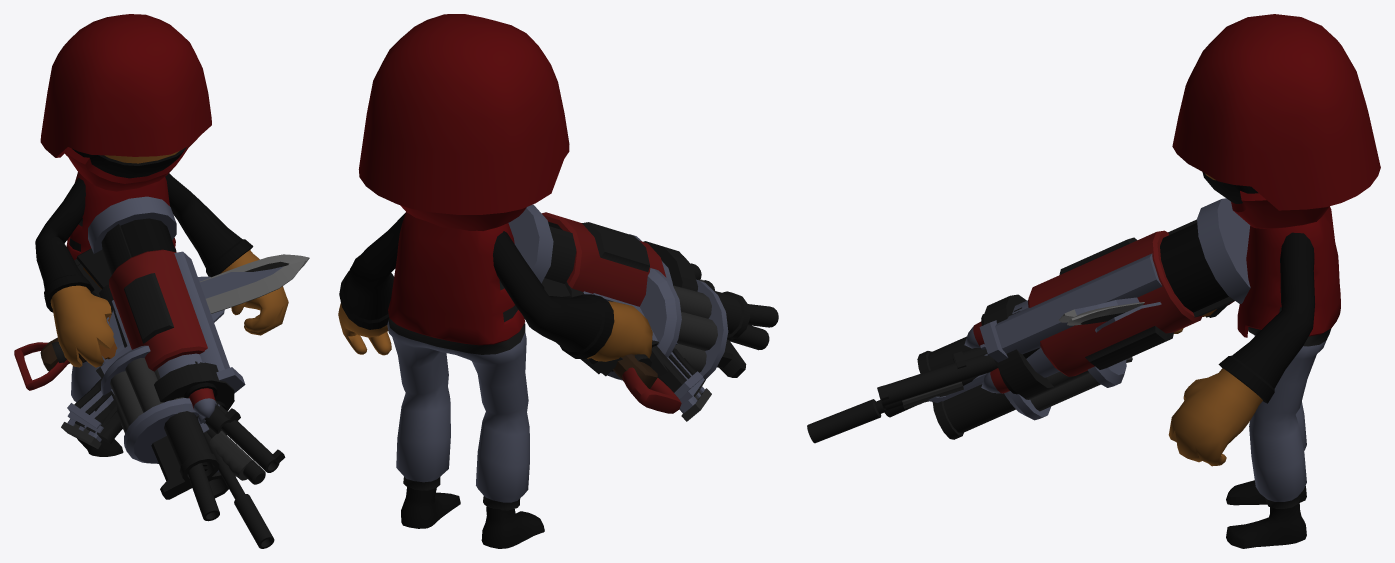
Rendered from Character_Enemy.obj.
3 renders of one model, left to right at view 1: azimuth 30°, elevation 25°; view 2: azimuth 150°, elevation 25°; view 3: azimuth 270°, elevation 25°, orthographic. The views are drawn at different scales.
Visible parts, largest first — view 1: Character_Enemy_Head_Cube.002, RocketLauncher_Cube.298, Character_Enemy_Cube.013, GrenadeLauncher_Cylinder.019, Knife_1_Cube.300, Sniper_Cube.312, Shotgun_Cube.283, Sniper_2_Cube.282, Shovel_Cylinder.025, Knife_2_Cylinder.027, ShortCannon_Cube.000, AK_Cube.276 (+1 smaller); view 2: Character_Enemy_Cube.013, Character_Enemy_Head_Cube.002, RocketLauncher_Cube.298, GrenadeLauncher_Cylinder.019, Sniper_2_Cube.282, Sniper_Cube.312, Shovel_Cylinder.025, Knife_1_Cube.300, AK_Cube.276; view 3: Character_Enemy_Head_Cube.002, Character_Enemy_Cube.013, RocketLauncher_Cube.298, GrenadeLauncher_Cylinder.019, Shotgun_Cube.283, Sniper_Cube.312, Knife_2_Cylinder.027.
Part boxes in pixels (x1,y1,x2,y2): Character_Enemy_Head_Cube.002: [40, 14, 211, 191]; RocketLauncher_Cube.298: [88, 196, 245, 417]; Character_Enemy_Cube.013: [35, 172, 288, 456]; GrenadeLauncher_Cylinder.019: [101, 345, 228, 499]; Knife_1_Cube.300: [40, 260, 305, 371]; Sniper_Cube.312: [67, 259, 274, 548]; Shotgun_Cube.283: [206, 400, 285, 484]; Sniper_2_Cube.282: [67, 248, 219, 521]; Shovel_Cylinder.025: [14, 276, 224, 390]; Knife_2_Cylinder.027: [52, 254, 309, 362]; ShortCannon_Cube.000: [99, 342, 240, 434]; AK_Cube.276: [61, 267, 116, 448]; Character_Enemy_Cube.013: [338, 212, 652, 548]; Character_Enemy_Head_Cube.002: [358, 14, 569, 230]; RocketLauncher_Cube.298: [508, 204, 697, 306]; GrenadeLauncher_Cylinder.019: [601, 268, 750, 380]; Sniper_2_Cube.282: [541, 278, 769, 406]; Sniper_Cube.312: [652, 304, 778, 399]; Shovel_Cylinder.025: [622, 367, 681, 413]; Knife_1_Cube.300: [613, 354, 657, 388]; AK_Cube.276: [583, 291, 731, 421]; Character_Enemy_Head_Cube.002: [1172, 14, 1380, 228]; Character_Enemy_Cube.013: [1168, 206, 1340, 548]; RocketLauncher_Cube.298: [964, 198, 1250, 398]; GrenadeLauncher_Cylinder.019: [917, 336, 1126, 439]; Shotgun_Cube.283: [877, 303, 1229, 410]; Sniper_Cube.312: [807, 347, 1040, 443]; Knife_2_Cylinder.027: [1067, 302, 1144, 325].
Size of the model in its own units: 1.54 by 2.26 by 2.38.
